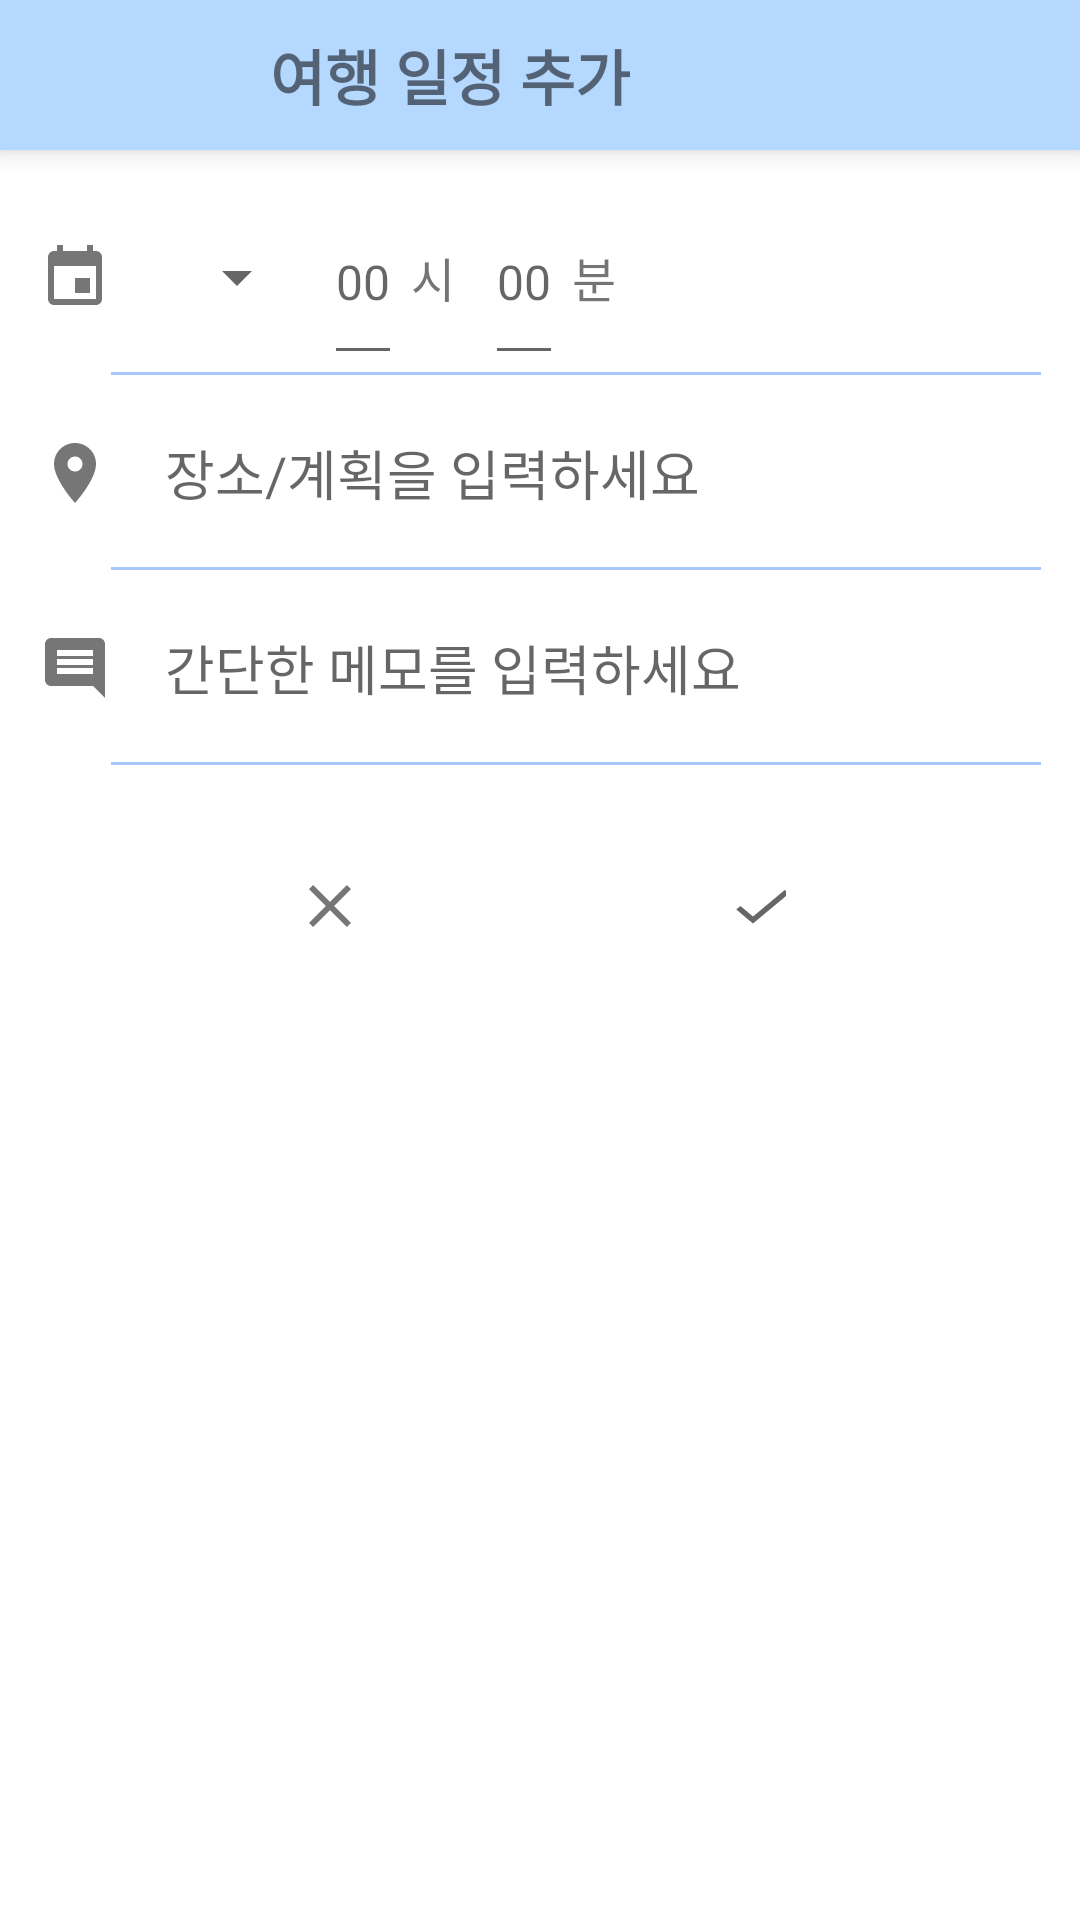

Icon click points for this 1080*1920 phone screenshot, format (x,y):
calendar: (75,275)
check: (761,906)
close: (330,906)
insert comment: (75,668)
place: (75,473)
